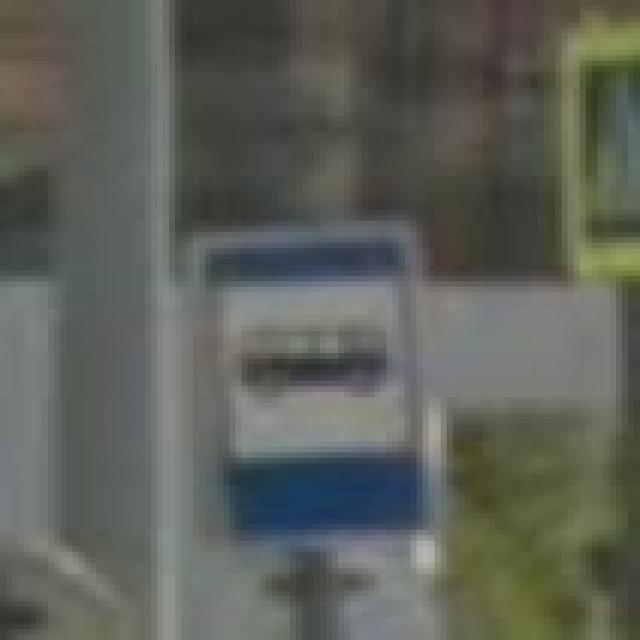traffic_sign: (187, 221, 441, 557)
